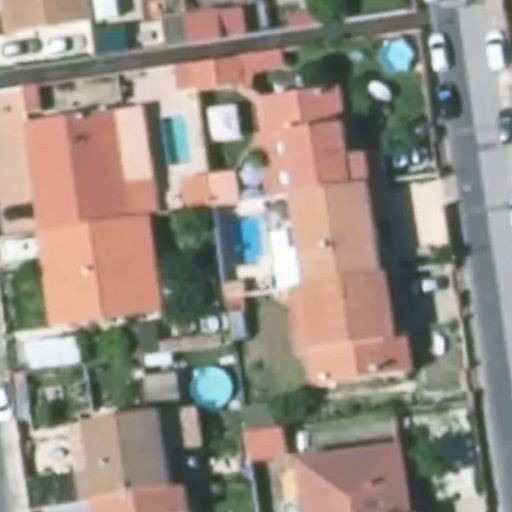pool: (220, 213, 267, 270), (188, 365, 233, 410), (159, 113, 192, 168), (379, 38, 415, 74)
